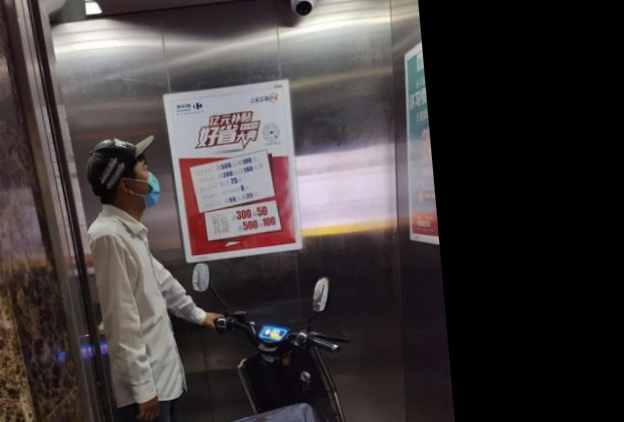ebike: (193, 262, 350, 422)
person: (80, 134, 216, 422)
